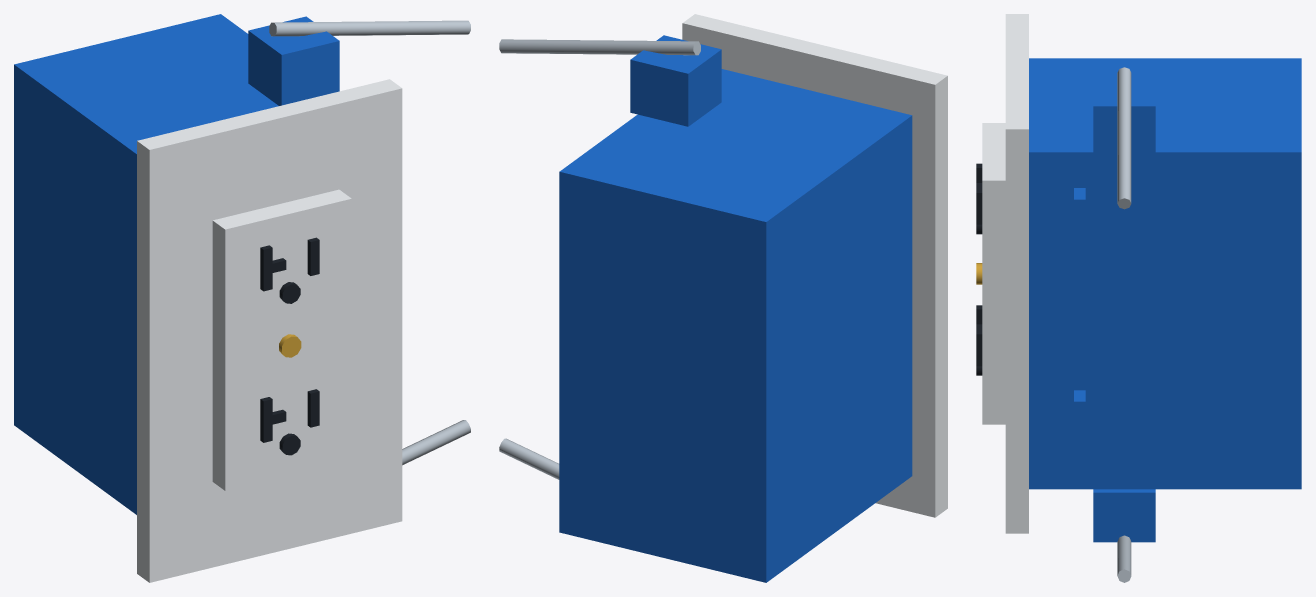
3 renders of one model, left to right at view 1: azimuth 30°, elevation 25°; view 2: azimuth 150°, elevation 25°; view 3: azimuth 270°, elevation 25°, orthographic. The views are drawn at different scales.
Parts seen in each view (by area): view 1: cad-device-duplex, cad-box-single-gang-standard; view 2: cad-box-single-gang-standard, cad-device-duplex; view 3: cad-box-single-gang-standard, cad-device-duplex.
Boxes of the visible parts, bbox=[...] form: cad-device-duplex: bbox=[137, 79, 402, 582]; cad-box-single-gang-standard: bbox=[14, 14, 470, 514]; cad-box-single-gang-standard: bbox=[499, 35, 912, 582]; cad-device-duplex: bbox=[682, 14, 947, 517]; cad-box-single-gang-standard: bbox=[1029, 58, 1301, 582]; cad-device-duplex: bbox=[976, 14, 1028, 533].
Bounding box in the file's own units: 0.1057 × 0.1328 × 0.0834.
